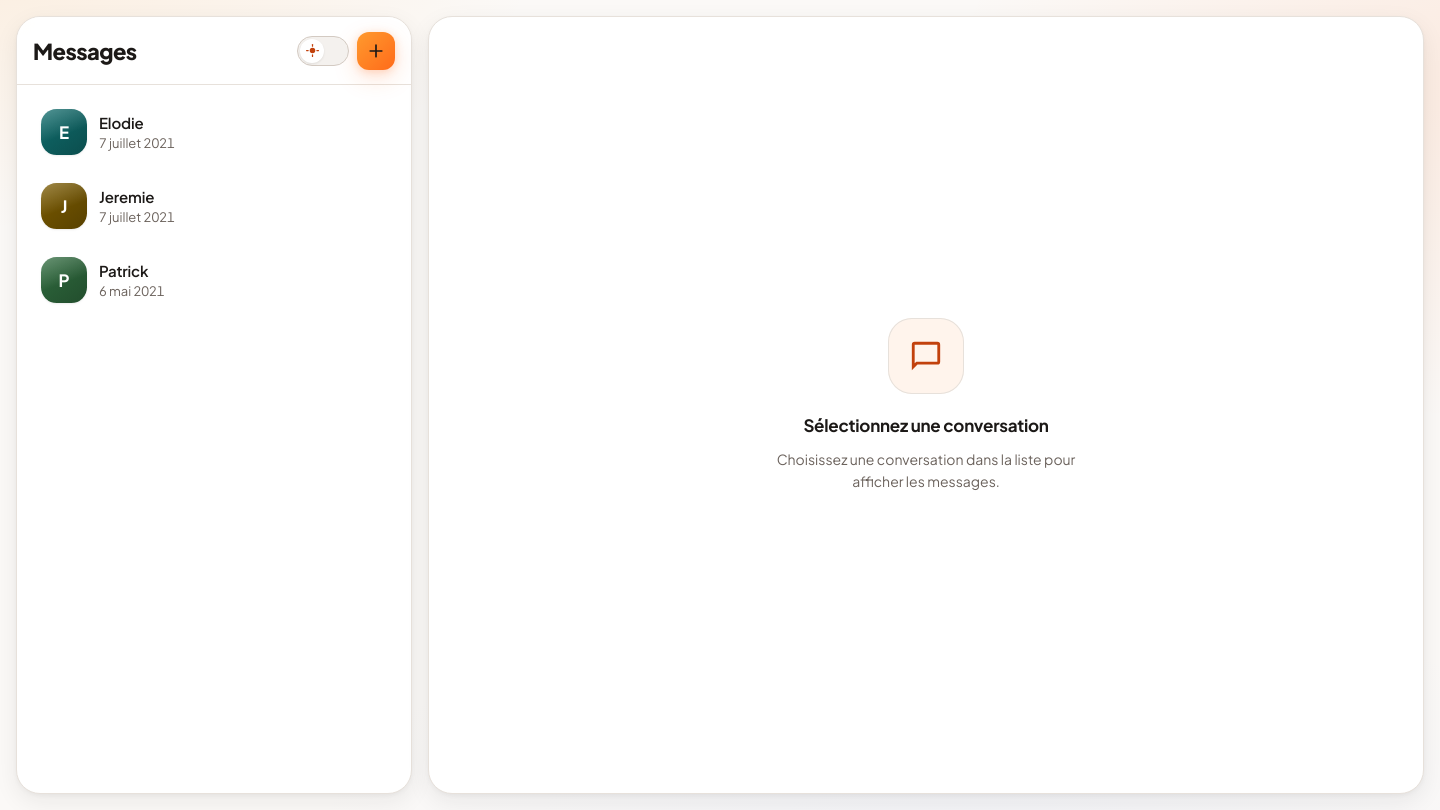
Test: accessibility › has no violations in the new-conversation dialog
Expected: the navigation bar named "Conversations" is shown, [41,109,175,303]
Click the button named "Nouvelle conversation". click: {"x": 376, "y": 50}
box: [357,32,395,70]
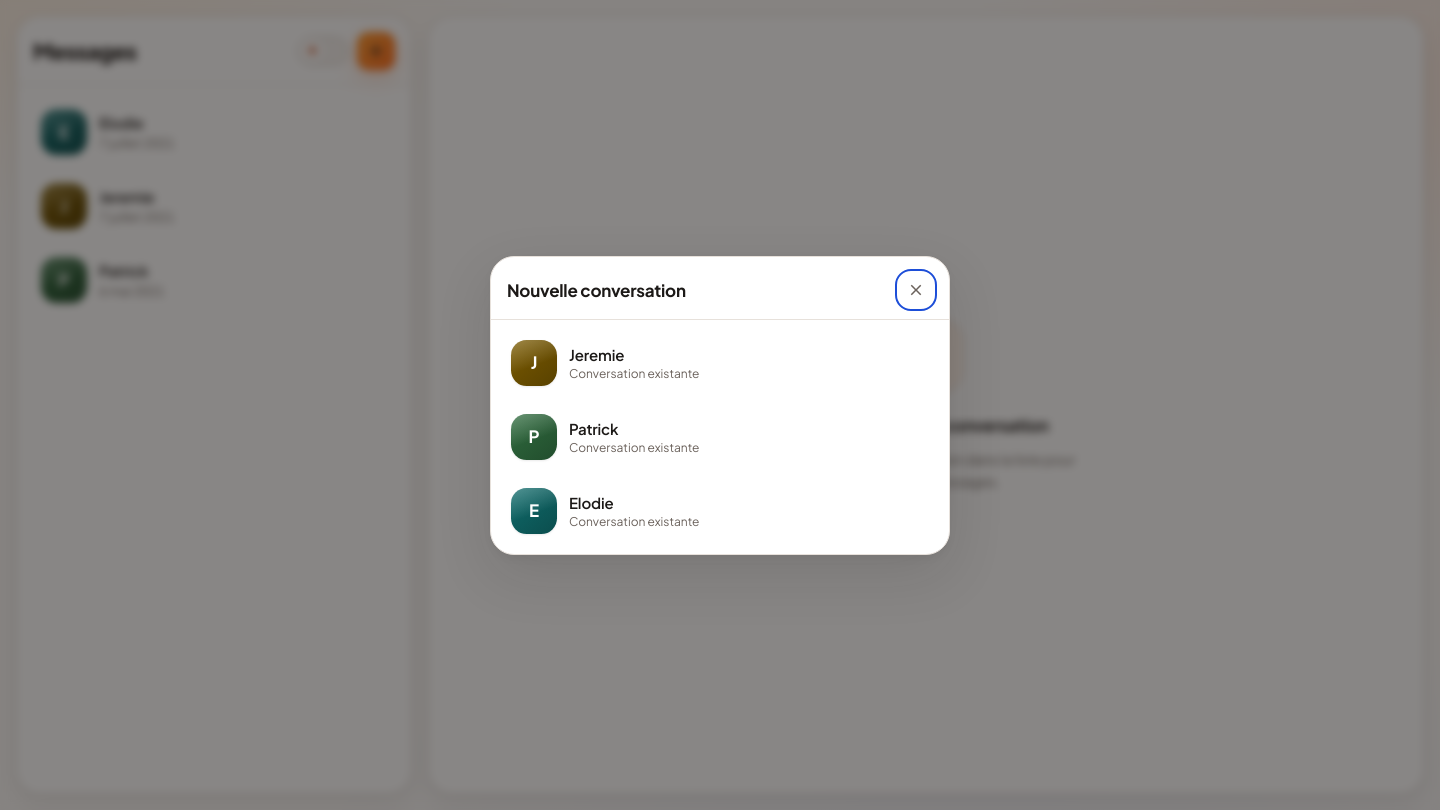
Now the dialog is shown, box [490,256,950,554]
